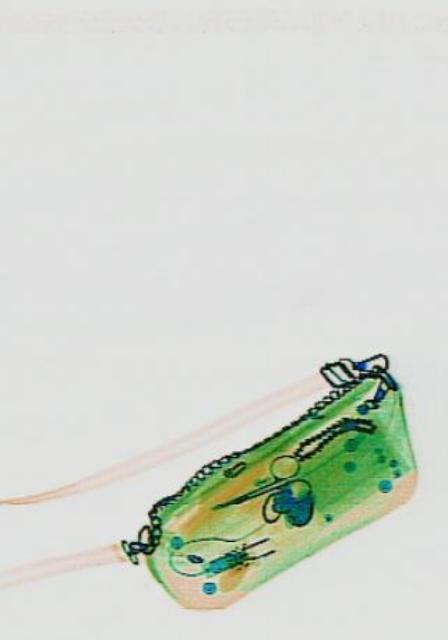Scissors: (204, 443, 310, 533)
